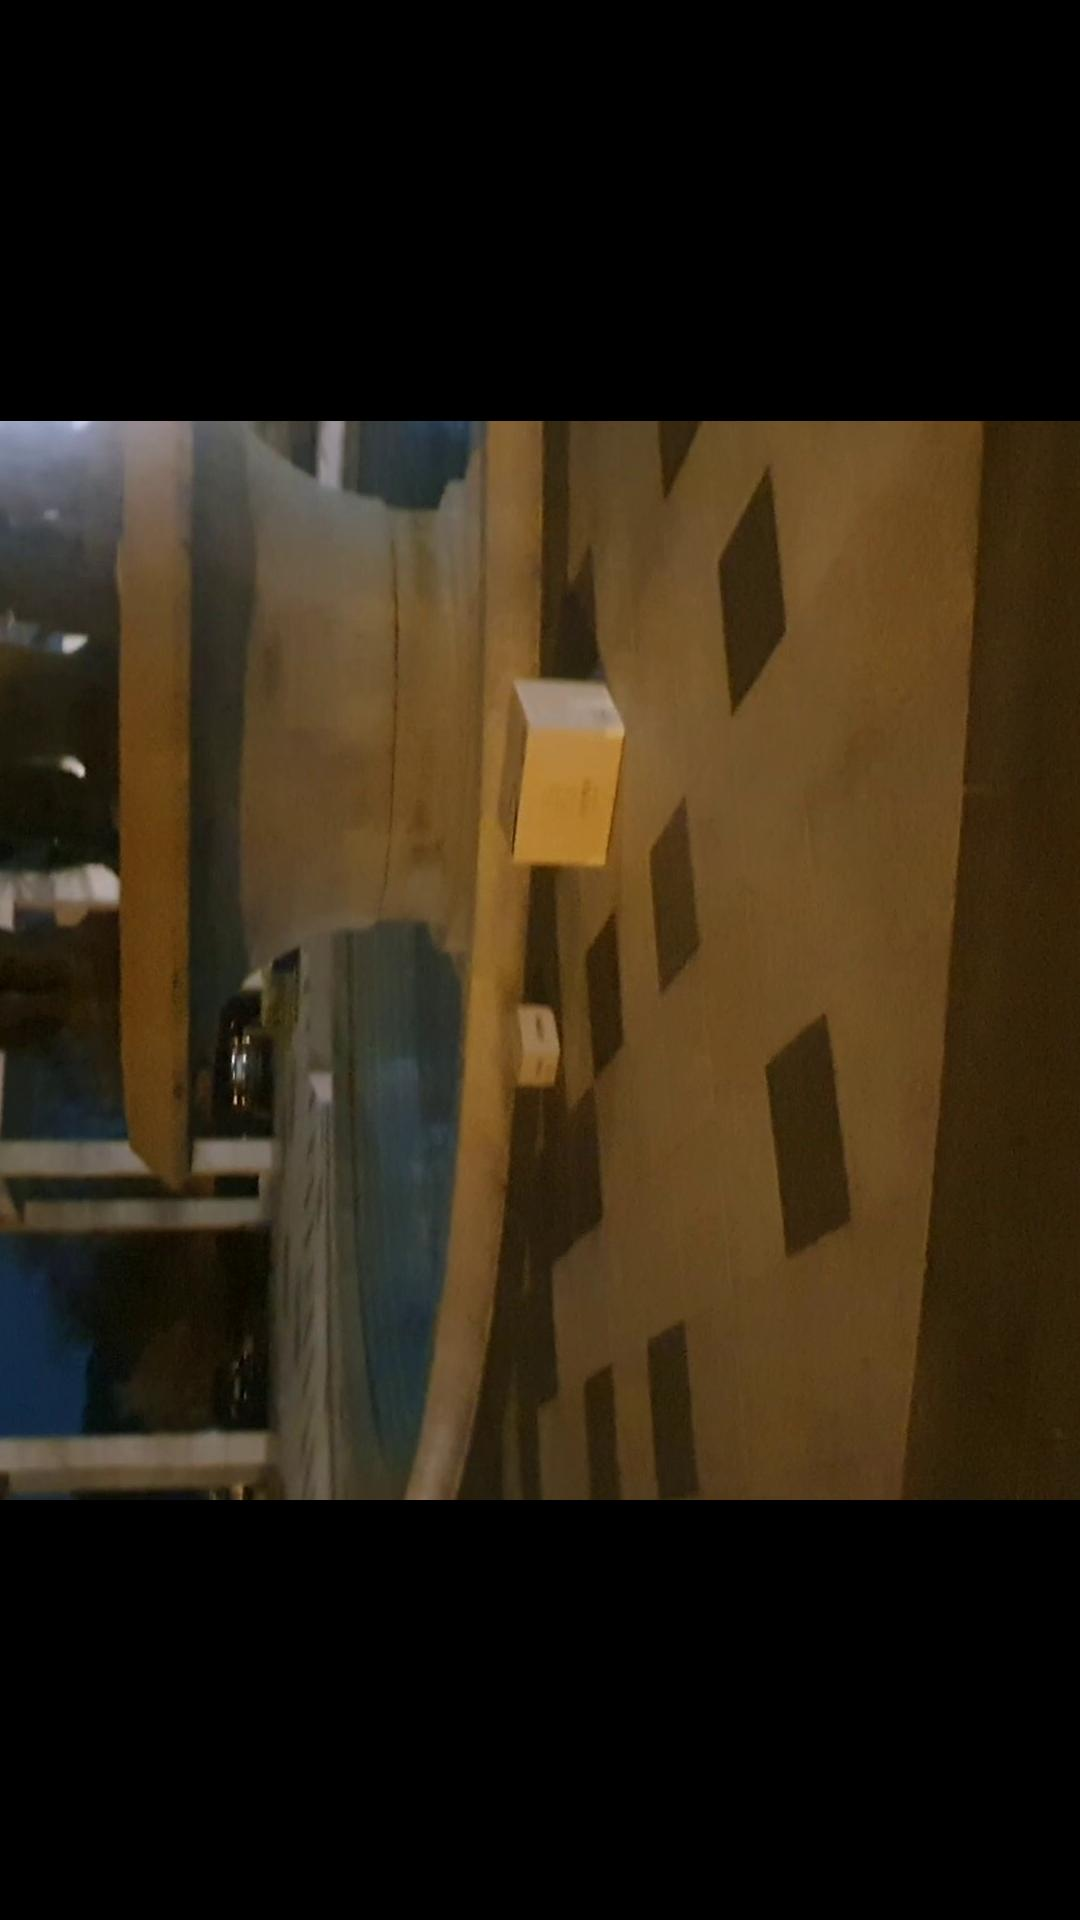Box: (480, 676, 637, 907), (488, 975, 580, 1104)
